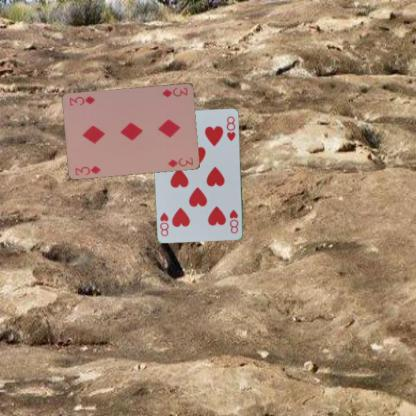3d: (159, 85, 189, 99), (72, 163, 102, 176)
8h: (227, 207, 240, 234)
